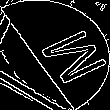M_SW: (14, 23, 96, 87)
